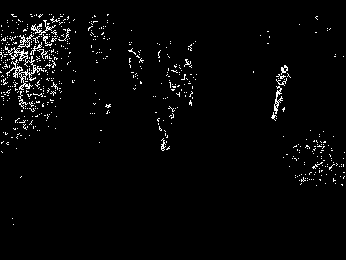person: (268, 62, 293, 120)
